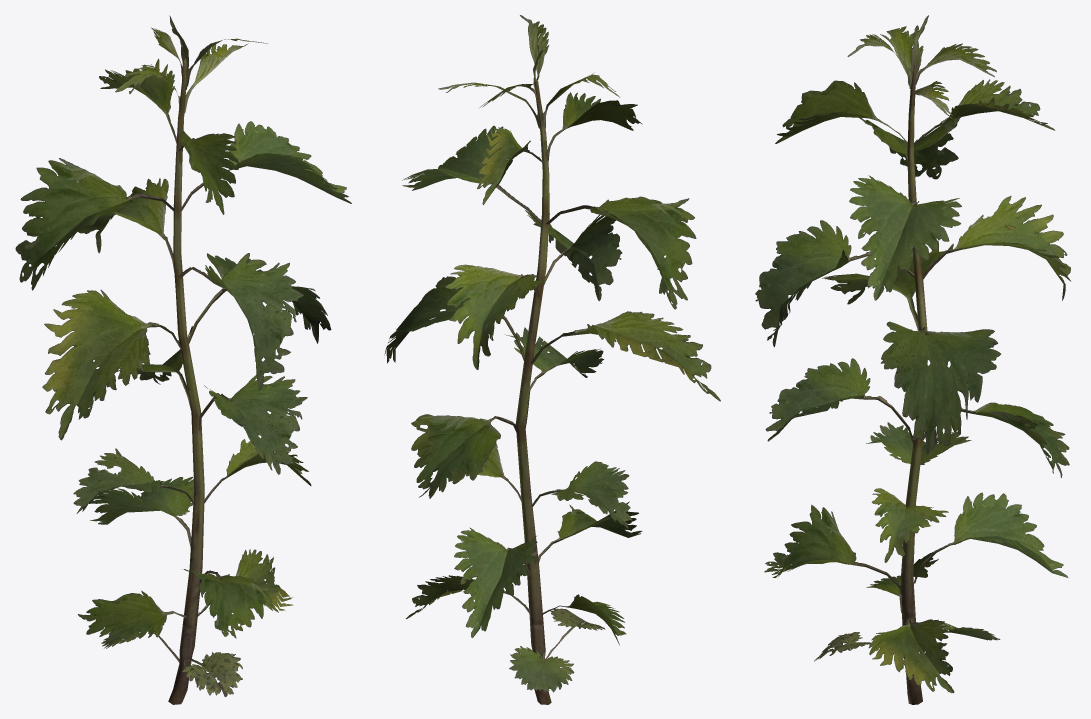
Rendered from nettle_plant_tall_a_LOD1.glb.
3 renders of one model, left to right at view 1: azimuth 30°, elevation 25°; view 2: azimuth 150°, elevation 25°; view 3: azimuth 270°, elevation 25°, orthographic. The views are drawn at different scales.
Visible parts, largest first — view 1: nettle_plant_tall_a_LOD1__lod0; view 2: nettle_plant_tall_a_LOD1__lod0; view 3: nettle_plant_tall_a_LOD1__lod0.
Part boxes in pixels (bbox=[...]): nettle_plant_tall_a_LOD1__lod0: bbox=[15, 15, 351, 704]; nettle_plant_tall_a_LOD1__lod0: bbox=[384, 15, 720, 704]; nettle_plant_tall_a_LOD1__lod0: bbox=[755, 15, 1070, 704].
Size of what is drawn, in the model's own units: 0.1049 by 0.217 by 0.093.
1 material, 1 textured.
